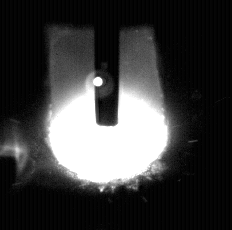arame: (96, 0, 120, 126)
poca: (48, 0, 170, 230)
